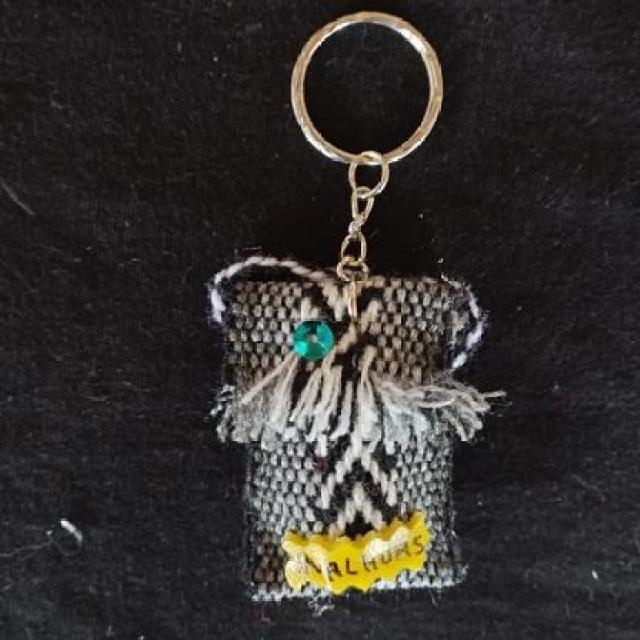Llavero: (205, 253, 506, 602)
